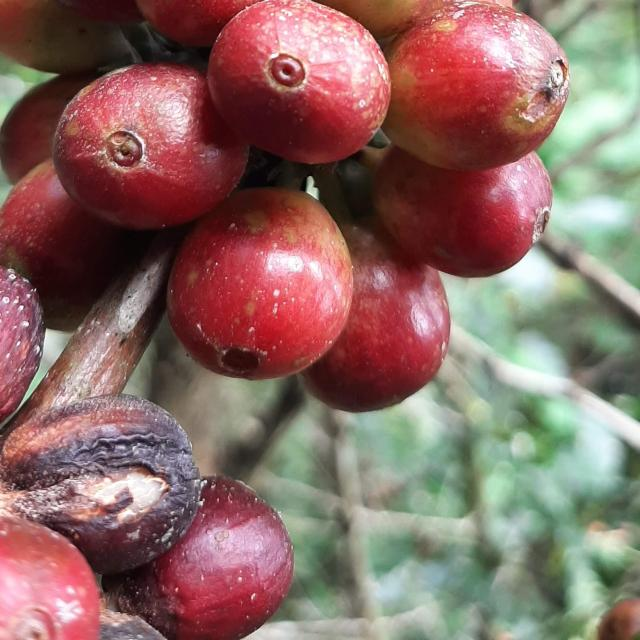Overripe: (0, 394, 200, 575), (103, 477, 294, 640), (0, 516, 99, 640), (0, 266, 44, 423)
Ripe: (52, 62, 248, 230), (207, 0, 391, 163), (374, 145, 553, 277), (135, 0, 260, 46)
Unripe: (167, 188, 353, 380), (383, 1, 571, 170), (302, 218, 451, 412), (0, 159, 131, 331), (0, 70, 99, 183), (0, 0, 131, 73), (316, 0, 459, 38)
